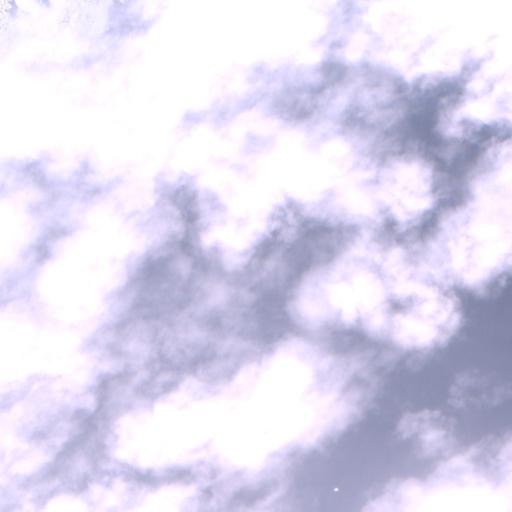Iceberg: (334, 488, 338, 490)
